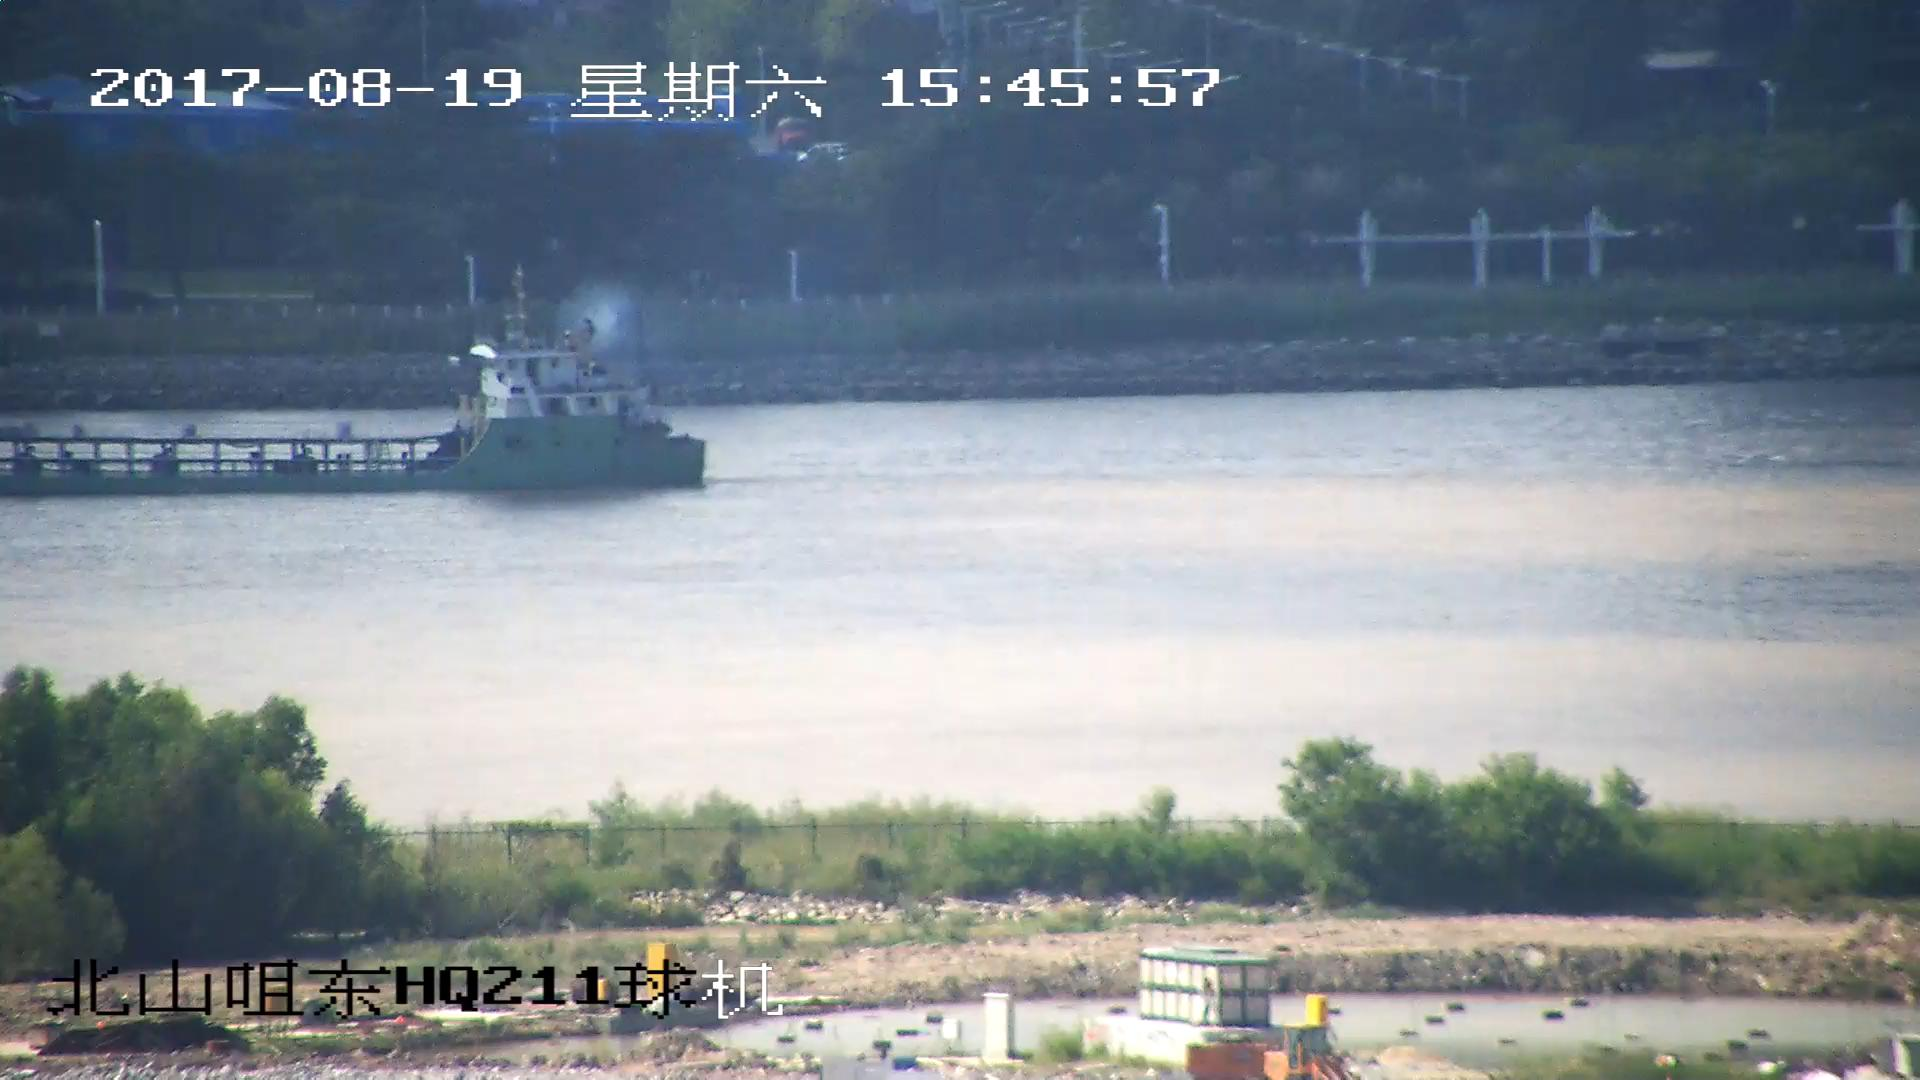general cargo ship: (1, 269, 707, 494)
